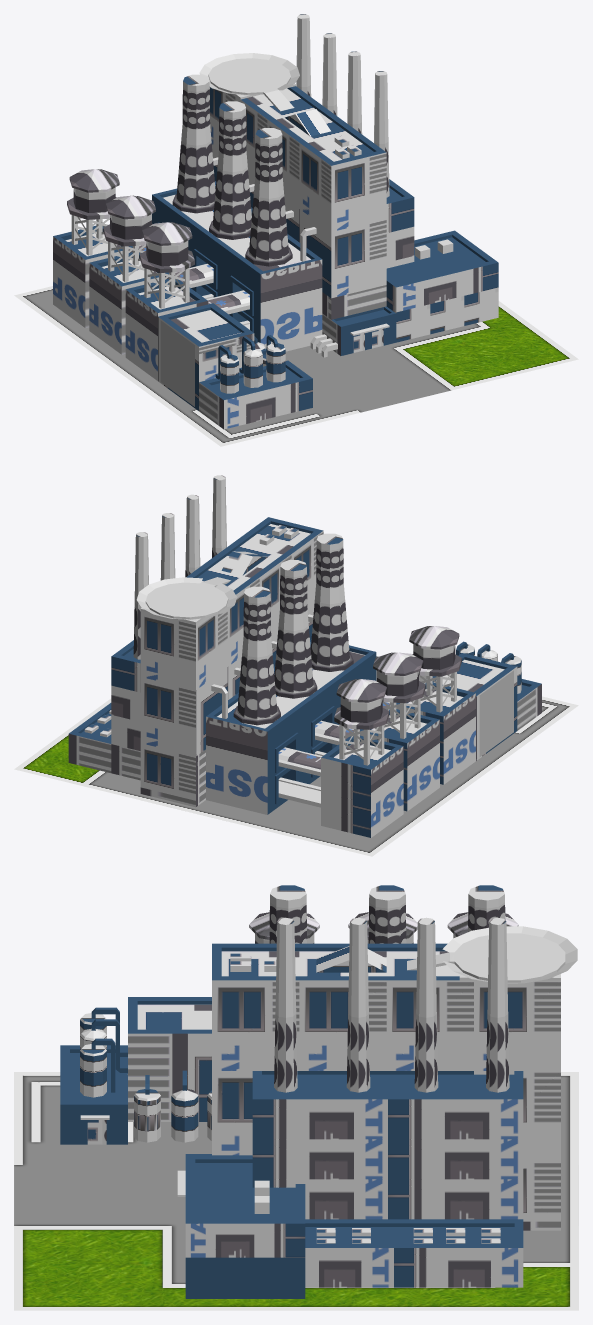
File: Smelter_Plant_lvl_Mega.fbx
3 renders of one model, top to bottom at view 1: azimuth 30°, elevation 25°; view 2: azimuth 150°, elevation 25°; view 3: azimuth 270°, elevation 25°, orthographic. The views are drawn at different scales.
Parts seen in each view (by area): view 1: Smelter_Plant_Mega, Smelter_Plant_BG_Mega, HelicopterPlace, Graffiti_001, Smelter_Plant_Mega.001, HelicopterPlace_Alpha_DoubleSided; view 2: Smelter_Plant_Mega, Smelter_Plant_BG_Mega, HelicopterPlace, Graffiti_001, Smelter_Plant_Mega.001, HelicopterPlace_Alpha_DoubleSided; view 3: Smelter_Plant_Mega, Smelter_Plant_BG_Mega, HelicopterPlace, HelicopterPlace_Alpha_DoubleSided.
Part boxes in pixels (x1=…): Smelter_Plant_Mega: x1=53, y1=14, x2=498, y2=429; Smelter_Plant_BG_Mega: x1=14, y1=239, x2=578, y2=446; HelicopterPlace: x1=208, y1=58, x2=295, y2=111; Graffiti_001: x1=160, y1=320, x2=194, y2=406; Smelter_Plant_Mega.001: x1=75, y1=217, x2=184, y2=302; HelicopterPlace_Alpha_DoubleSided: x1=199, y1=53, x2=299, y2=95; Smelter_Plant_Mega: x1=68, y1=475, x2=541, y2=837; Smelter_Plant_BG_Mega: x1=14, y1=656, x2=578, y2=856; HelicopterPlace: x1=140, y1=577, x2=230, y2=623; Graffiti_001: x1=479, y1=670, x2=513, y2=756; Smelter_Plant_Mega.001: x1=344, y1=673, x2=453, y2=759; HelicopterPlace_Alpha_DoubleSided: x1=136, y1=577, x2=237, y2=619; Smelter_Plant_Mega: x1=60, y1=885, x2=560, y2=1298; Smelter_Plant_BG_Mega: x1=14, y1=1072, x2=578, y2=1310; HelicopterPlace: x1=407, y1=933, x2=565, y2=982; HelicopterPlace_Alpha_DoubleSided: x1=442, y1=926, x2=577, y2=983.
Size of the model in its own units: 4000 by 2530 by 4000.
